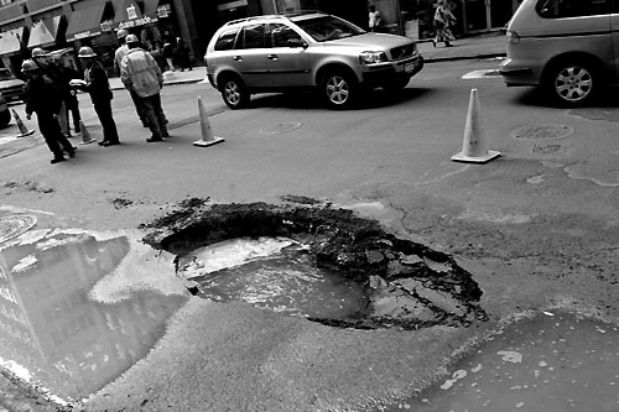pothole: (134, 193, 494, 334)
